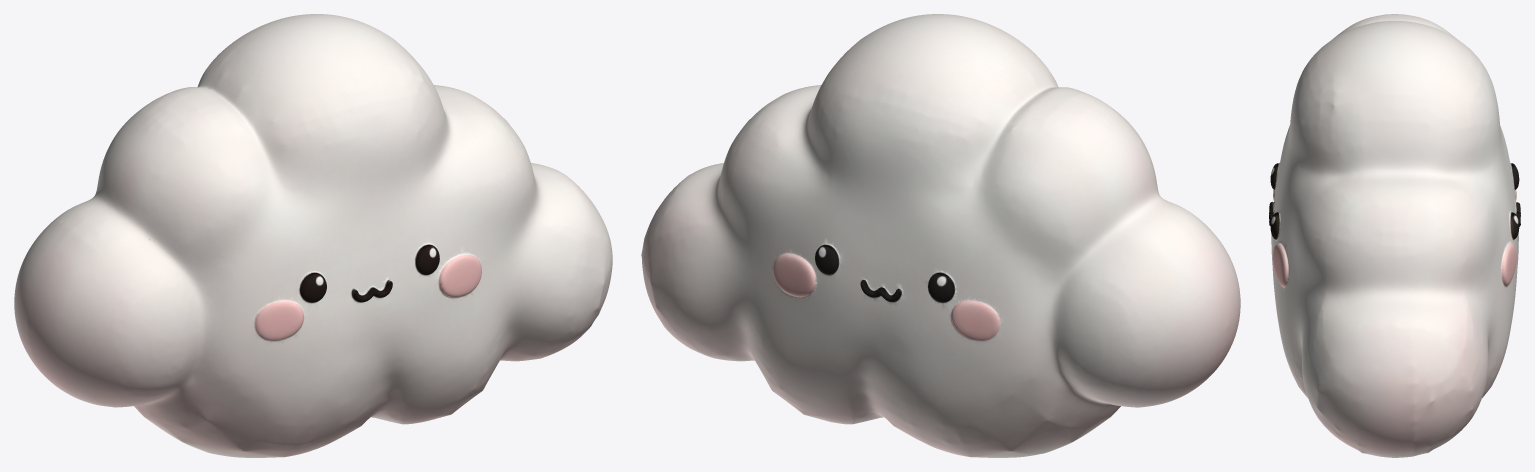
The model's file is Meshy_AI_Pink_Cloud_Puff_0520111419_texture.fbx.
3 views of the same model, side by side, from view 1: azimuth 30°, elevation 25°; view 2: azimuth 150°, elevation 25°; view 3: azimuth 270°, elevation 25° (orthographic). The views are drawn at different scales.
Visible parts, largest first — view 1: Mesh_0; view 2: Mesh_0; view 3: Mesh_0.
Boxes of the visible parts, <box> form: Mesh_0: <box>14,14,612,457</box>; Mesh_0: <box>641,14,1240,457</box>; Mesh_0: <box>1269,14,1520,457</box>.
Size of the model in its own units: 190 by 128 by 81.84.
1 material, 1 textured.
